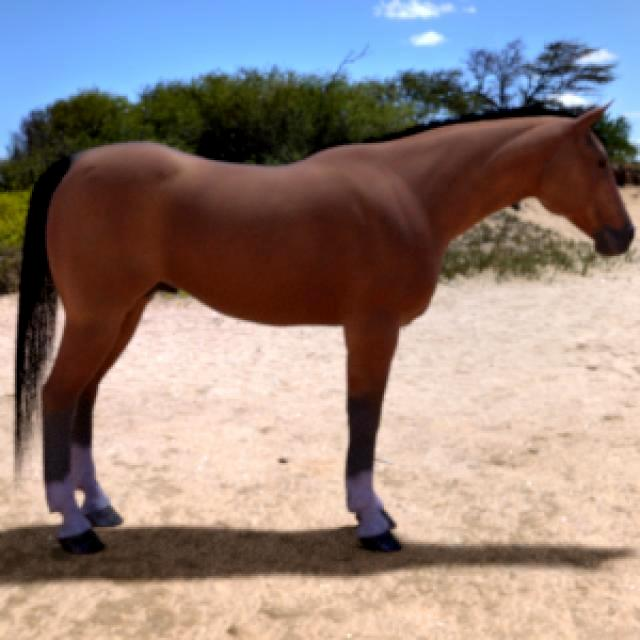horse: (15, 107, 634, 553)
